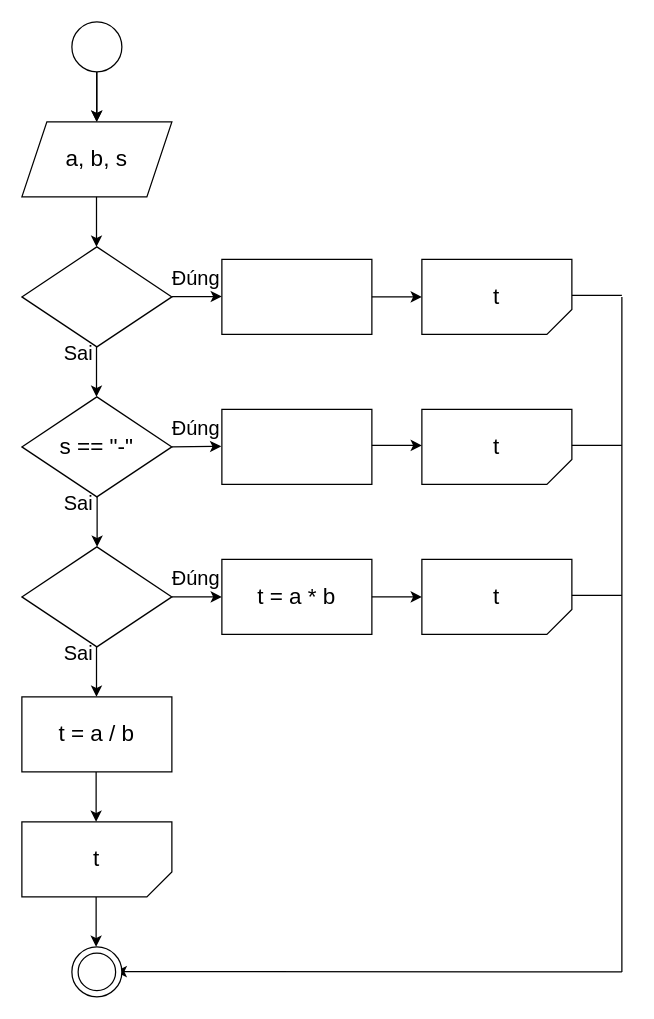
Some shapes in this 654 by 1019 pixel diagram are drawn without their labels. Each missing label, with the centre of its shape:
s == "*": (x=96, y=596)
s == "+": (x=96, y=296)
t = a + b: (x=296, y=296)
t = a - b: (x=296, y=446)
